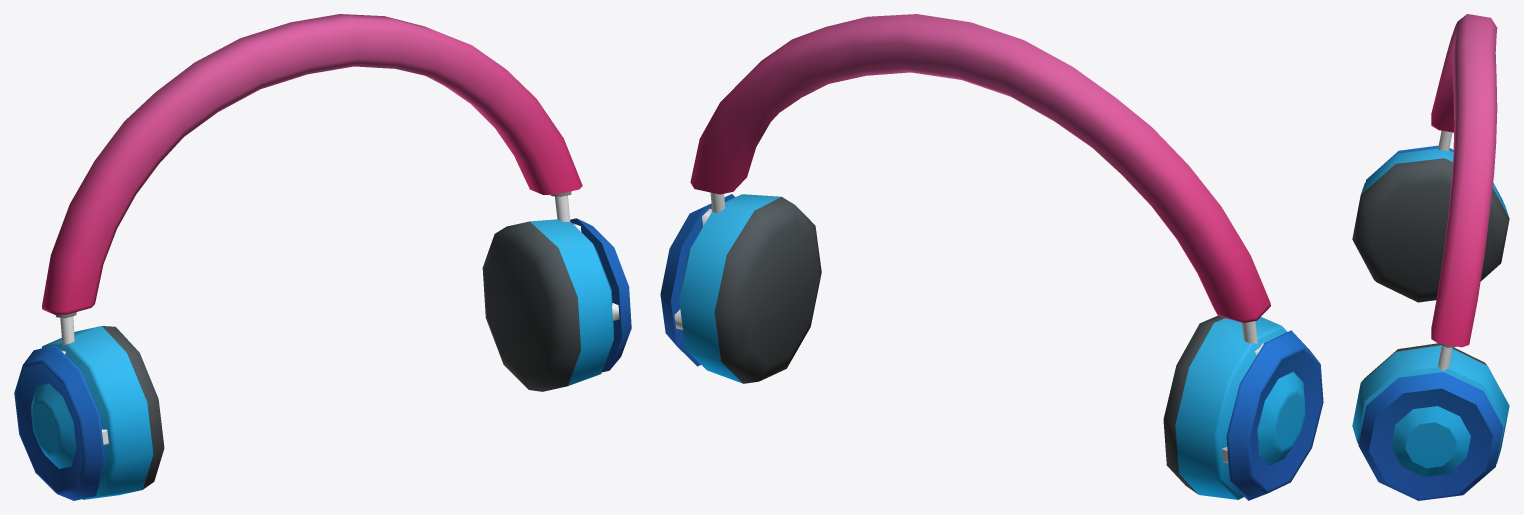
Rendered from Hat_07.glb.
3 views of the same model, side by side, from view 1: azimuth 30°, elevation 25°; view 2: azimuth 150°, elevation 25°; view 3: azimuth 270°, elevation 25° (orthographic). The views are drawn at different scales.
Visible parts, largest first — view 1: Hat_07; view 2: Hat_07; view 3: Hat_07.
Part boxes in pixels (box(x1,y1,x2,y2)): Hat_07: box(14, 14, 631, 500); Hat_07: box(660, 14, 1323, 500); Hat_07: box(1352, 14, 1509, 500).
Size of the model in its own units: 0.7426 by 0.5046 by 0.2036.
1 material, 1 textured.
